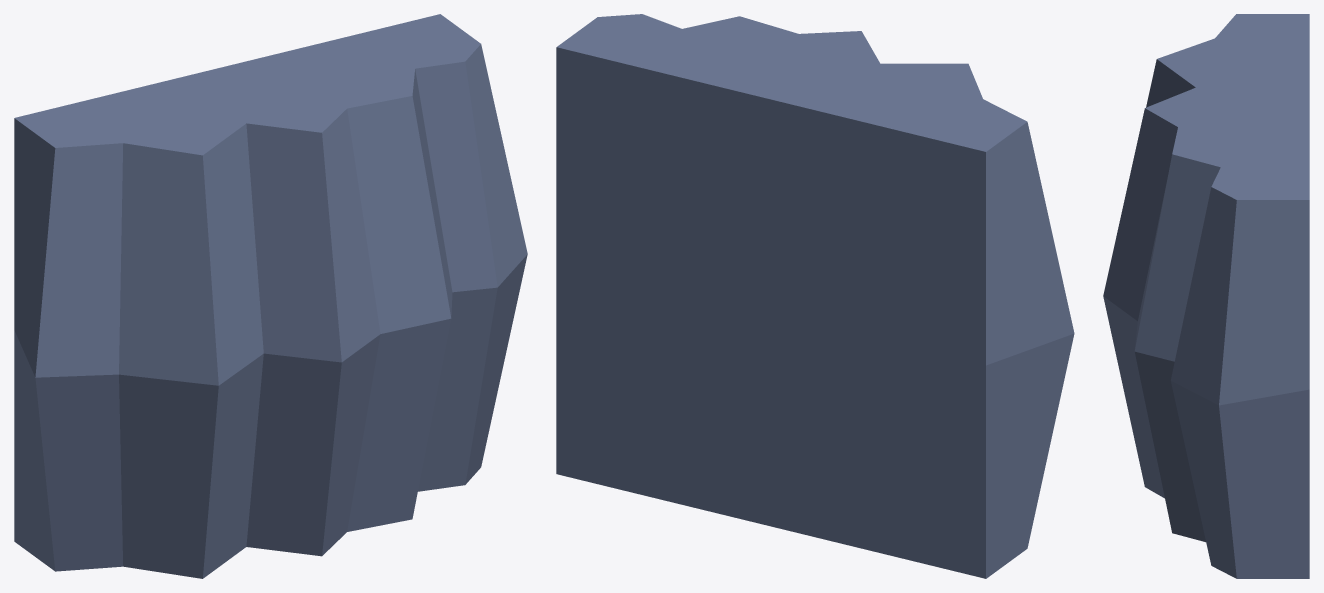
File: floor-047.glb
3 views of the same model, side by side, from view 1: azimuth 30°, elevation 25°; view 2: azimuth 150°, elevation 25°; view 3: azimuth 270°, elevation 25° (orthographic). The views are drawn at different scales.
Visible parts, largest first — view 1: floor.047; view 2: floor.047; view 3: floor.047.
Part boxes in pixels (x1,y1,x2,y2): floor.047: (14,14,527,578); floor.047: (556,14,1074,578); floor.047: (1103,14,1309,578).
Size of the model in its own units: 2 by 1.63 by 0.8063.
